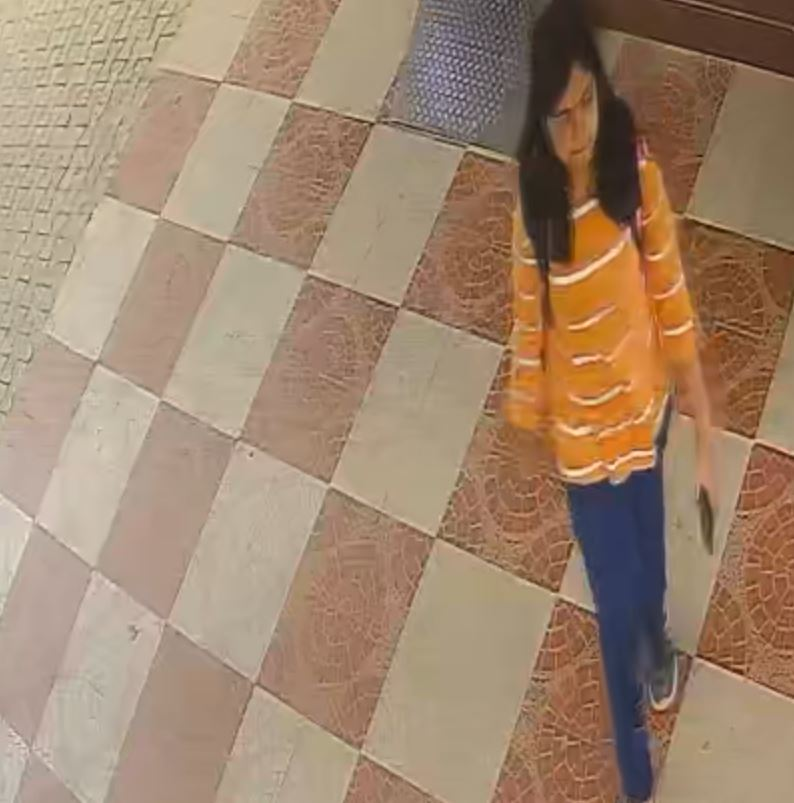intruder: (504, 7, 733, 803)
